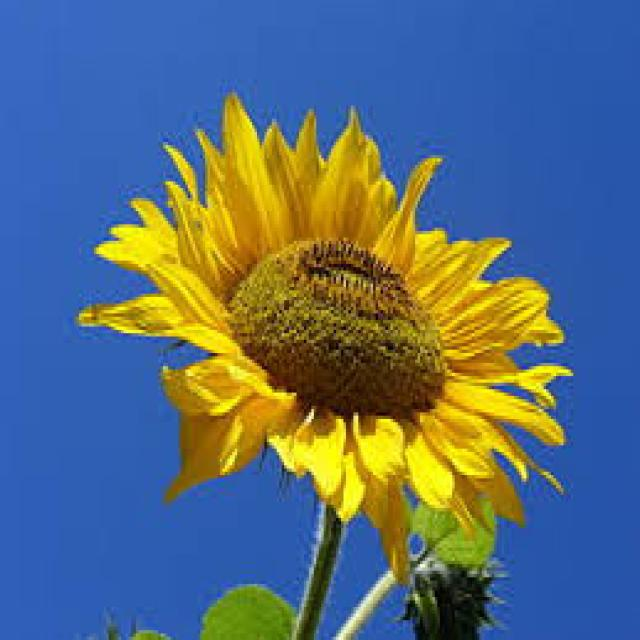sunflower: (64, 80, 580, 603)
